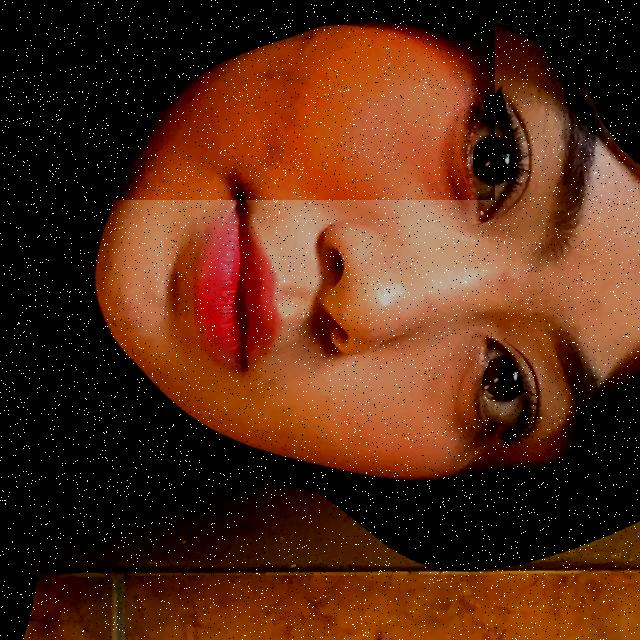ibu: (0, 0, 494, 200)
